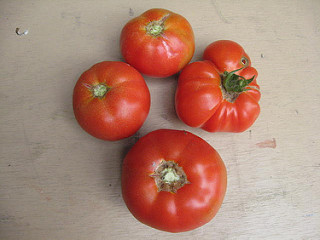tomato: (121, 126, 223, 233), (173, 39, 258, 134), (72, 60, 150, 139), (118, 7, 196, 72)
